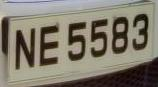3: (131, 10, 151, 55)
5: (64, 17, 89, 64), (87, 15, 110, 62)
8: (110, 11, 131, 56)
E: (37, 21, 63, 71)
N: (13, 22, 38, 76)
